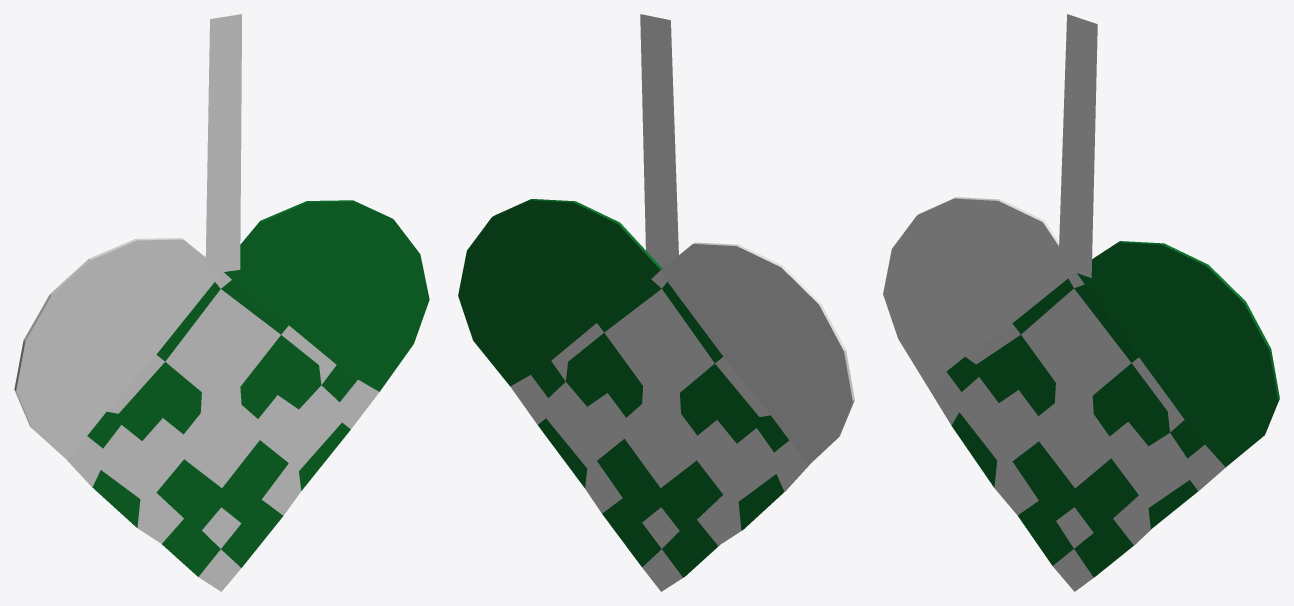
File: heart15.glb
3 renders of one model, left to right at view 1: azimuth 30°, elevation 25°; view 2: azimuth 150°, elevation 25°; view 3: azimuth 330°, elevation 25°, orthographic.
Visible parts, largest first — view 1: heart15; view 2: heart15; view 3: heart15.
Part boxes in pixels (x1=…): heart15: x1=14, y1=14, x2=429, y2=591; heart15: x1=458, y1=14, x2=854, y2=591; heart15: x1=883, y1=14, x2=1279, y2=591.
Size of the model in its own units: 0.1365 by 0.1851 by 0.00735.
